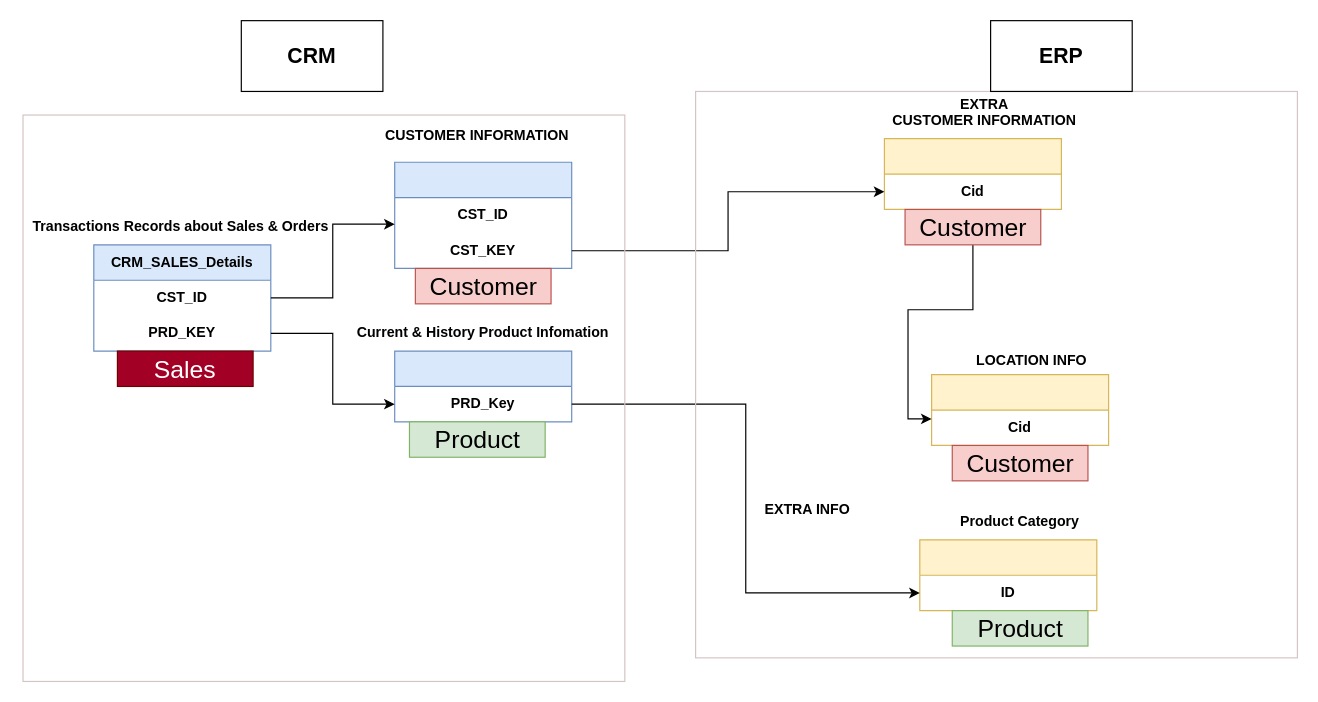
Some shapes in this 1318 by 702 pixel diagram are drawn without their labels. Each missing label, with the box of its shape:
CRM_CUST_INFO: (394, 161, 572, 268)
CRM_PRD_INFO: (394, 350, 572, 422)
ERP_CUST_AZ12: (883, 137, 1061, 209)
ERP_LOC_A101: (930, 373, 1109, 445)
ERP_PX_CAT_G1V2: (919, 539, 1097, 611)
